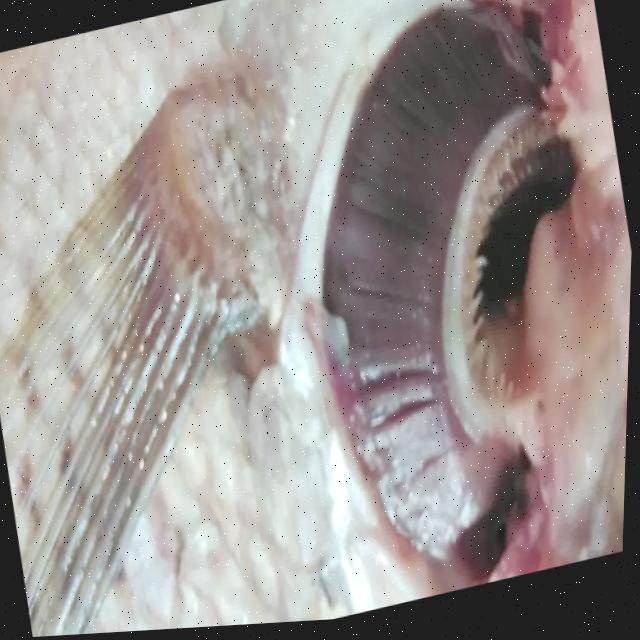Non-Fresh: (269, 3, 639, 580)
